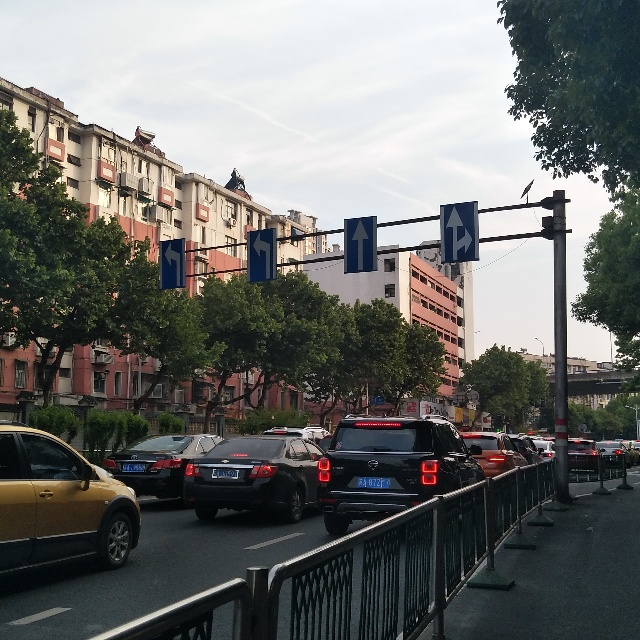left: (247, 229, 281, 290), (153, 237, 188, 291)
straight: (341, 218, 385, 278)
